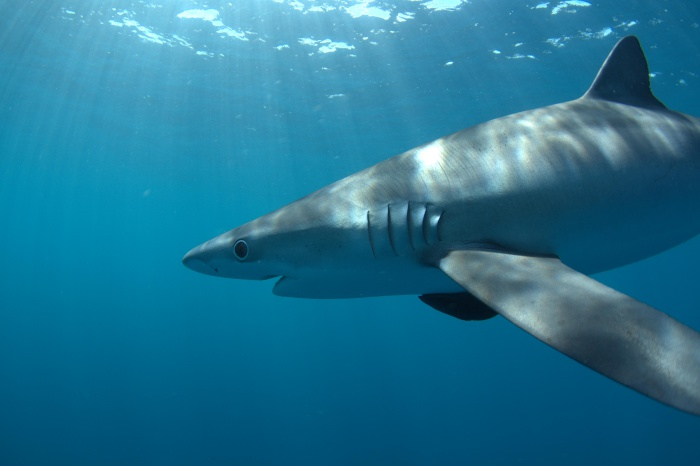Azul: (161, 21, 700, 432)
